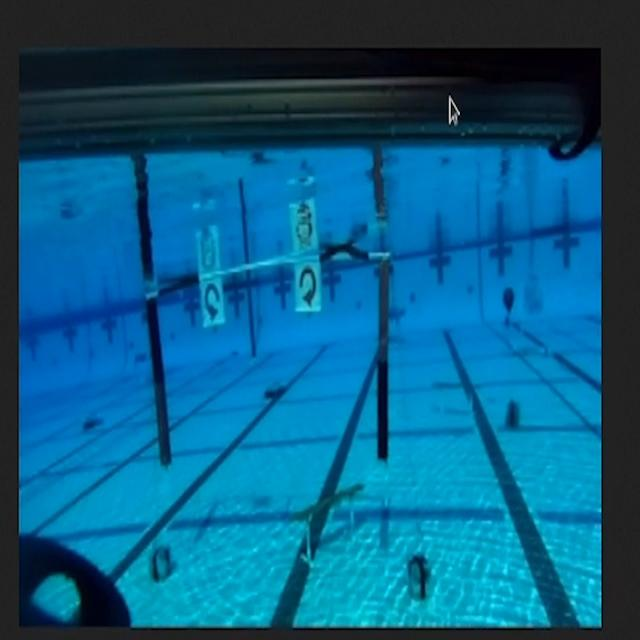Gate: (139, 238, 398, 478)
Path: (280, 475, 374, 569)
